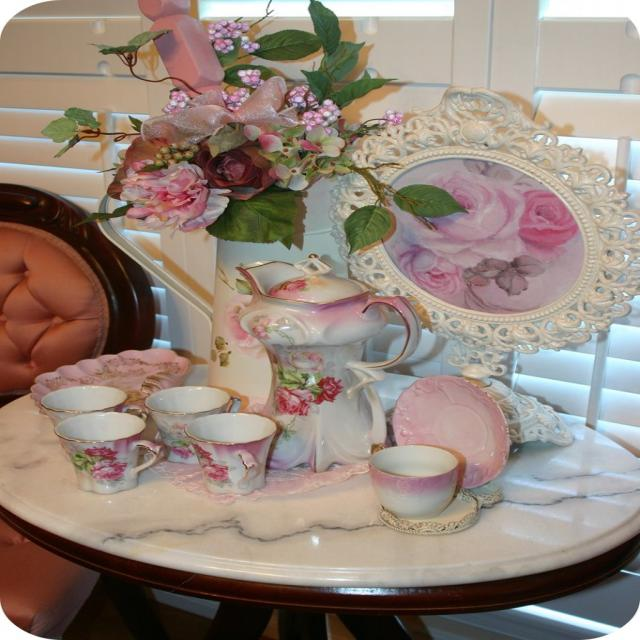non-organic waste: (329, 15, 640, 368)
